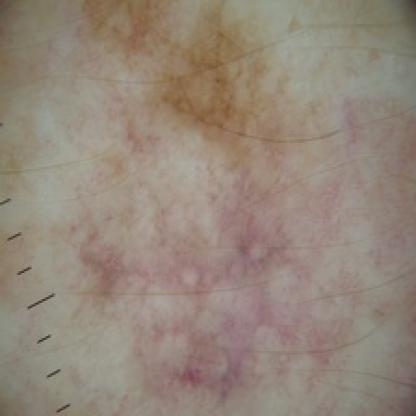malignant: (80, 134, 288, 377)
